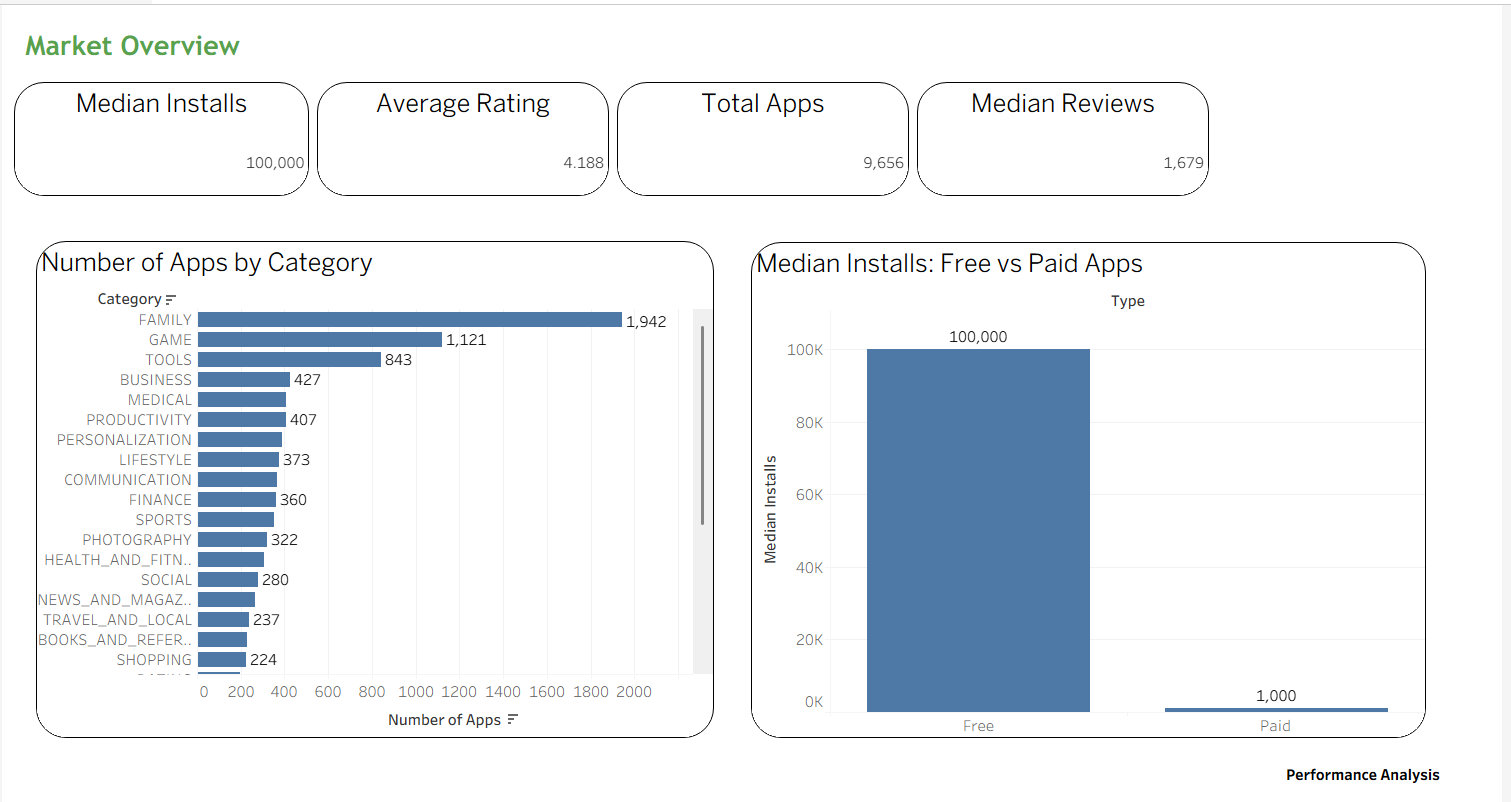

What the dashboard file says about the page in this screenshot:
{"tool":"tableau","page":{"name":"Market Overiew","canvas":[1000,1000],"units":"permille","ordinal":0},"visuals":[{"type":"dashboard-object","box":[801.7,16.8,173.5,49.1]},{"type":"worksheet","title":"Sheet 10","mark":"Automatic","box":[838.7,237.1,148,75.1]},{"type":"worksheet","title":"Sheet 7","mark":"Automatic","box":[359.3,246.5,118.7,77.5]},{"type":"worksheet","title":"Sheet 9","mark":"Text","box":[599.3,246.5,144,88]},{"type":"worksheet","title":"Sheet 8","mark":"Automatic","box":[113.3,247.7,114.7,49.3]},{"type":"worksheet","title":"Free vs Paid App Performance","mark":"Automatic","rows":["Installs"],"cols":["Type"],"box":[506.7,379.1,470.7,511.7]},{"type":"worksheet","title":"Number of Apps by Category","mark":"Automatic","rows":["Category"],"cols":["cleaned_googleplaystore_dataset.csv_280CB87C03074531968A75E2"],"box":[19.3,381.5,474,512.9]}]}

Visuals, with their boxes on the dashboard's canvas, which has no fixed pixel size, in thousandths of its width and height (x1, y1, x2, y2). These are canvas units, not pixel positions in the 1511x802 screenshot, which may show the page scaled, cropped or inside an application window:
dashboard-object: bbox=[802, 17, 975, 66]
"Sheet 10" worksheet: bbox=[839, 237, 987, 312]
"Sheet 7" worksheet: bbox=[359, 246, 478, 324]
"Sheet 9" worksheet (Text marks): bbox=[599, 246, 743, 334]
"Sheet 8" worksheet: bbox=[113, 248, 228, 297]
"Free vs Paid App Performance" worksheet: bbox=[507, 379, 977, 891]
"Number of Apps by Category" worksheet: bbox=[19, 382, 493, 894]
